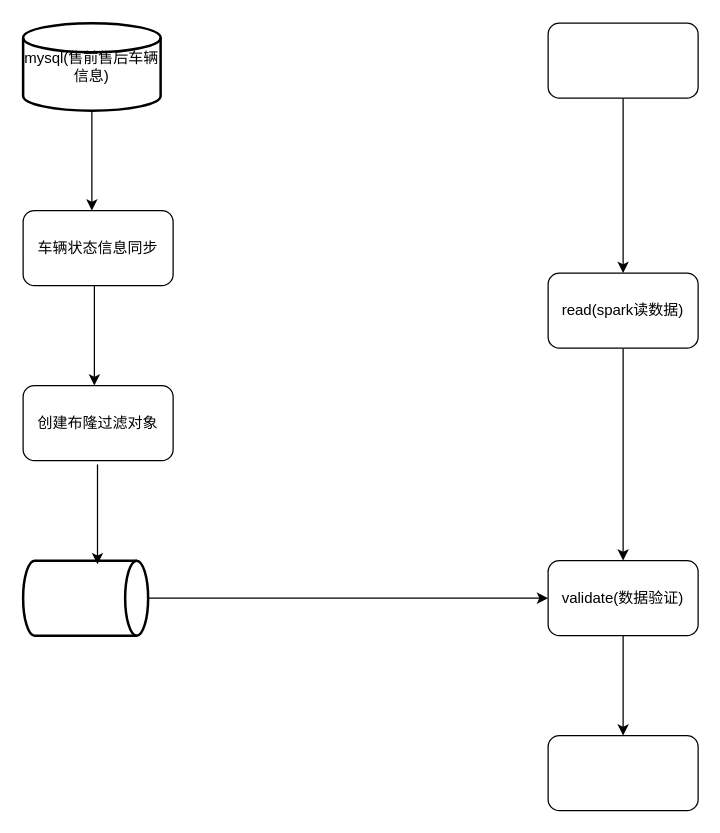
Image size: 720x833. Some labels were removed from this diagram. The centre of each missing label's shape, as x and y in pixels:
"kafka" goes at point 622,60.
"redis" goes at point 85,597.
"推送售前预警" goes at point 622,772.
